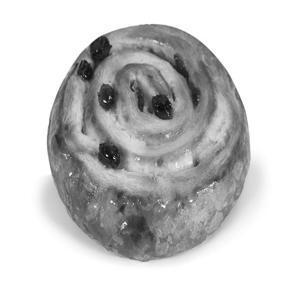bread: (25, 26, 252, 254)
